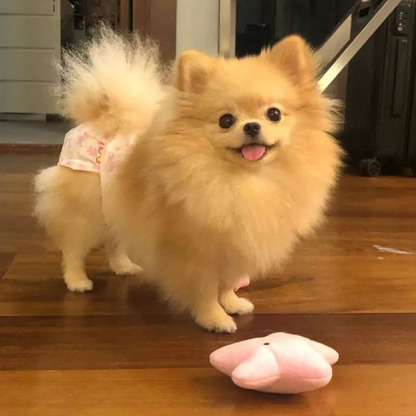Pomeranian: (38, 42, 349, 324)
